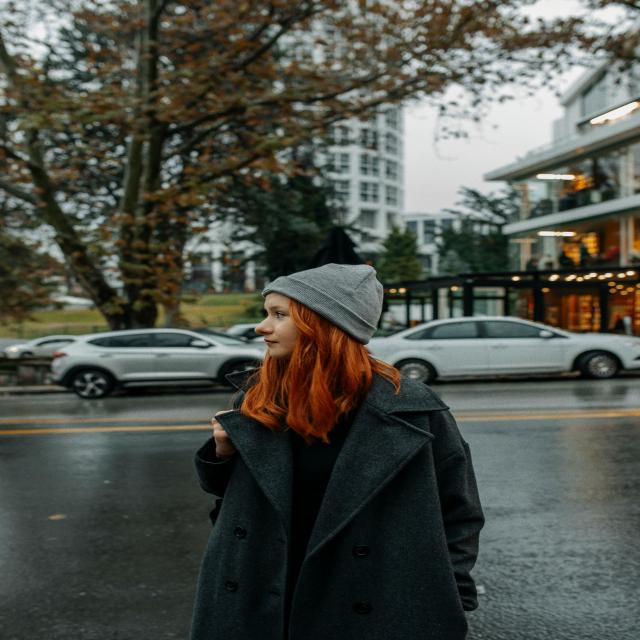sem_oculos: (248, 300, 298, 322)
